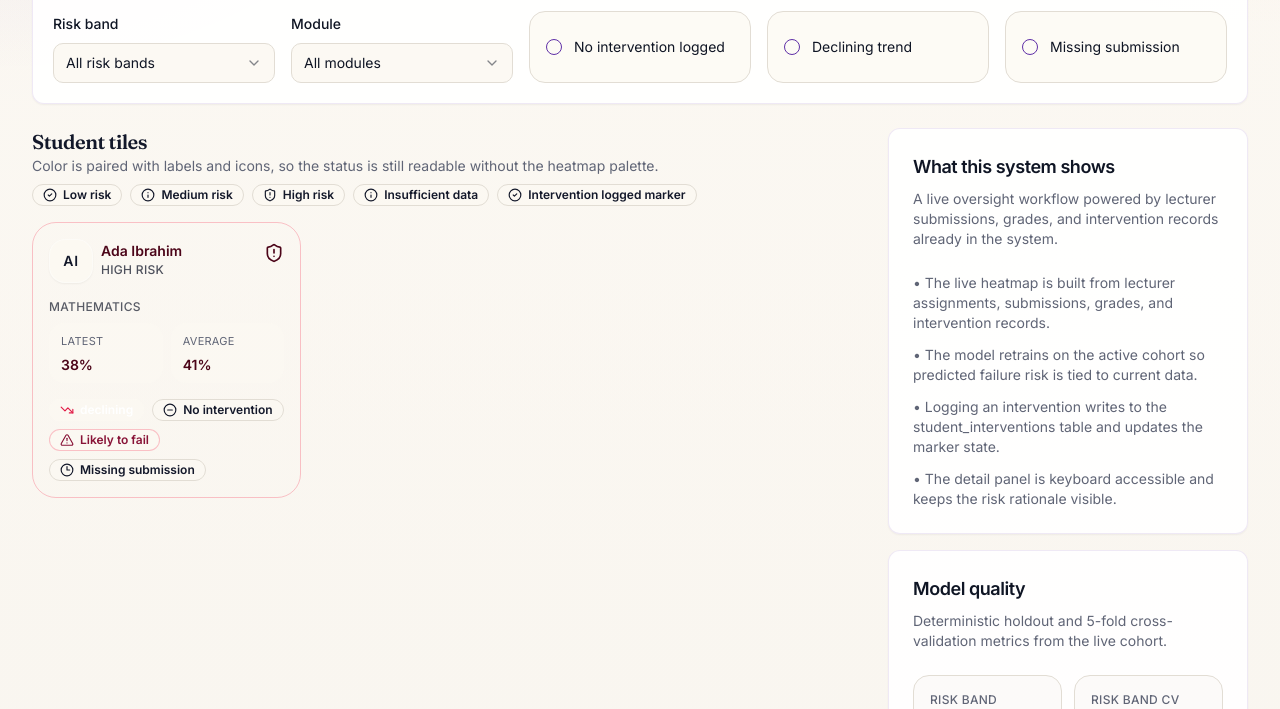
Test: CohortSignal admin oversight › shows a read-only admin view without intervention logging
This screenshot has width=1280, height=709.
(page scrolled)
Check: the button "Log Intervention" is not shown
Click the button "Ada Ibrahim": (71, 261) x1=32 y1=222 x2=301 y2=498
(page scrolled)
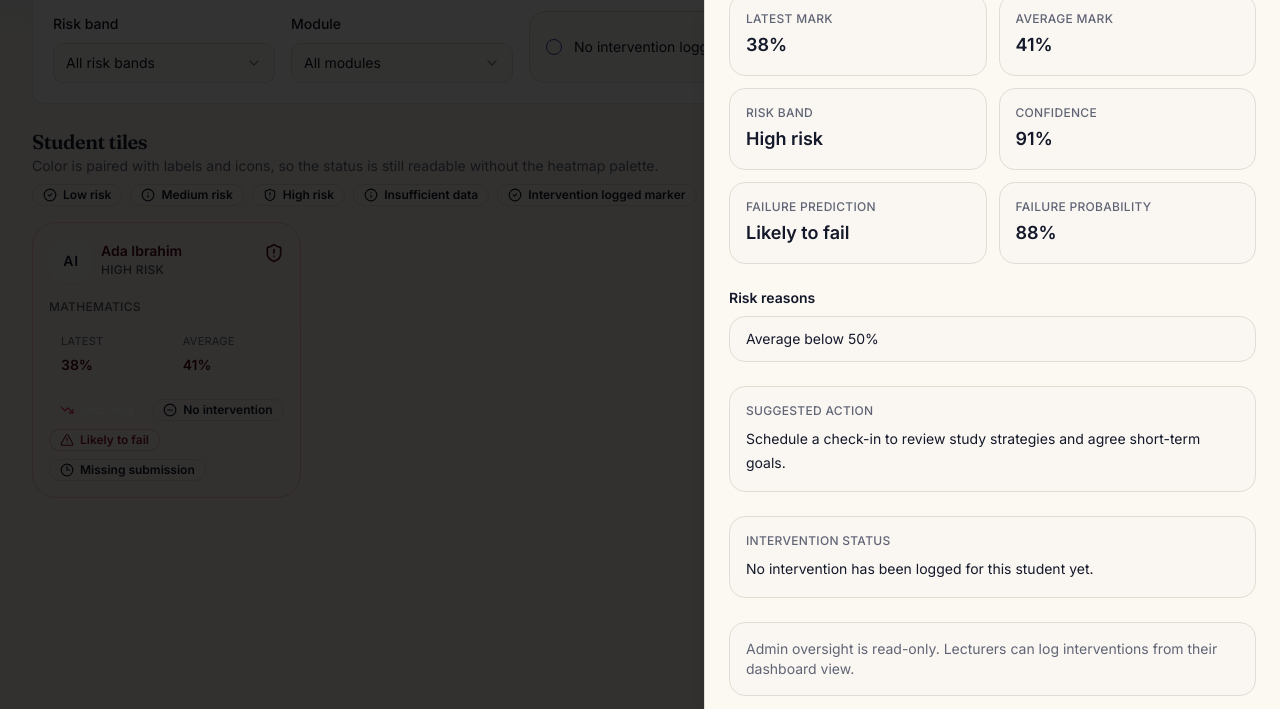
Check: the text "Admin oversight is read-only" is shown, box x1=746 y1=640 x2=1217 y2=677
